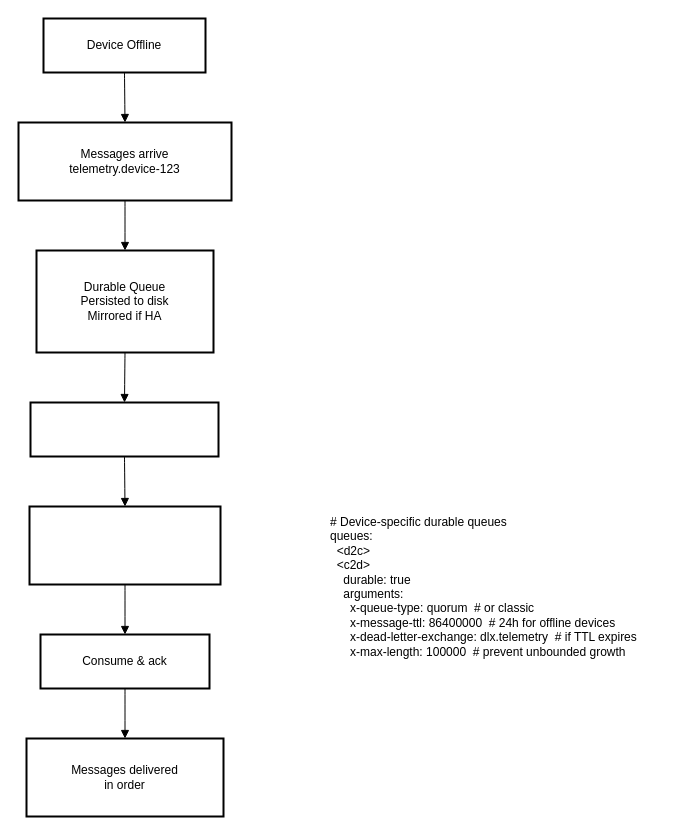
The diagram is 685 pixels wide and 834 high, and some of its shapes have lost their labels. Here are the shapes that lost their labels. From the top down, the centre of each, then its label:
At point (124, 429): "Configs: TTL Dead Letter".
At point (124, 545): "Device reconnects mTLS auth".
